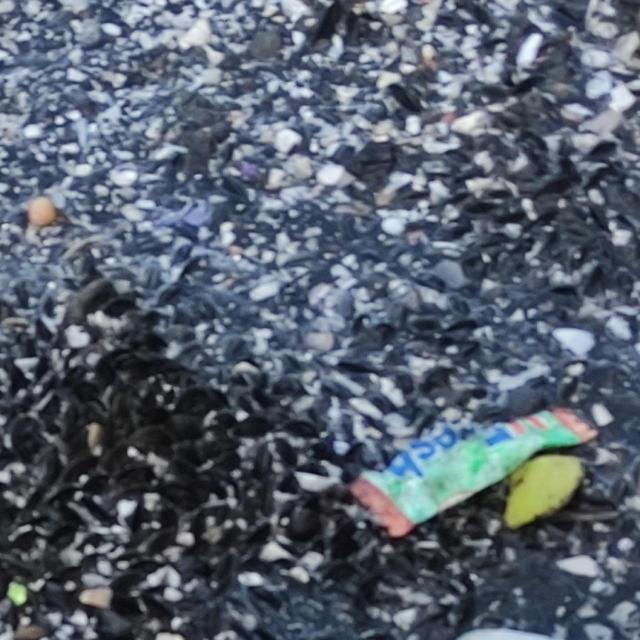plastic_waste: (346, 412, 590, 540)
